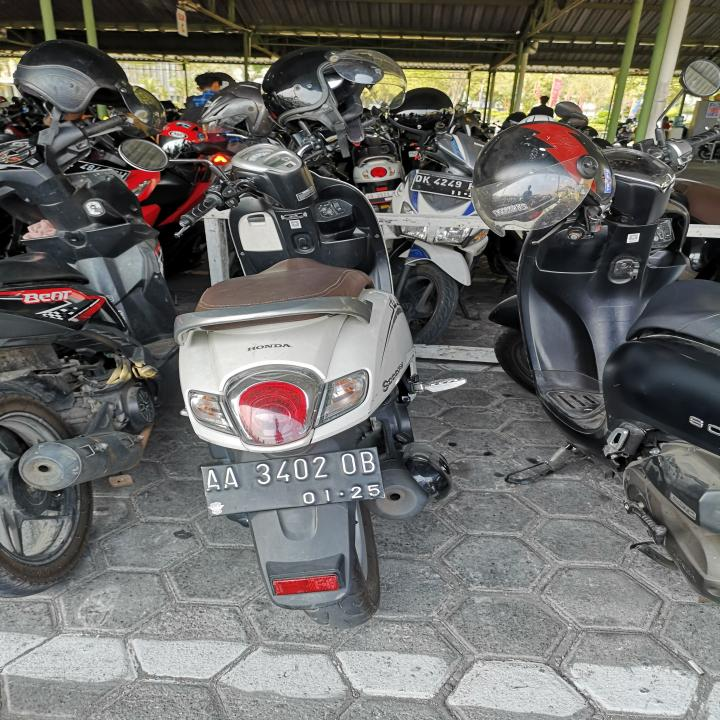plate: (180, 450, 386, 514), (408, 171, 474, 199)
